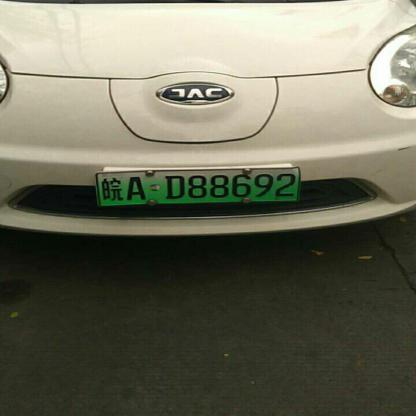lp: (95, 166, 299, 206)
